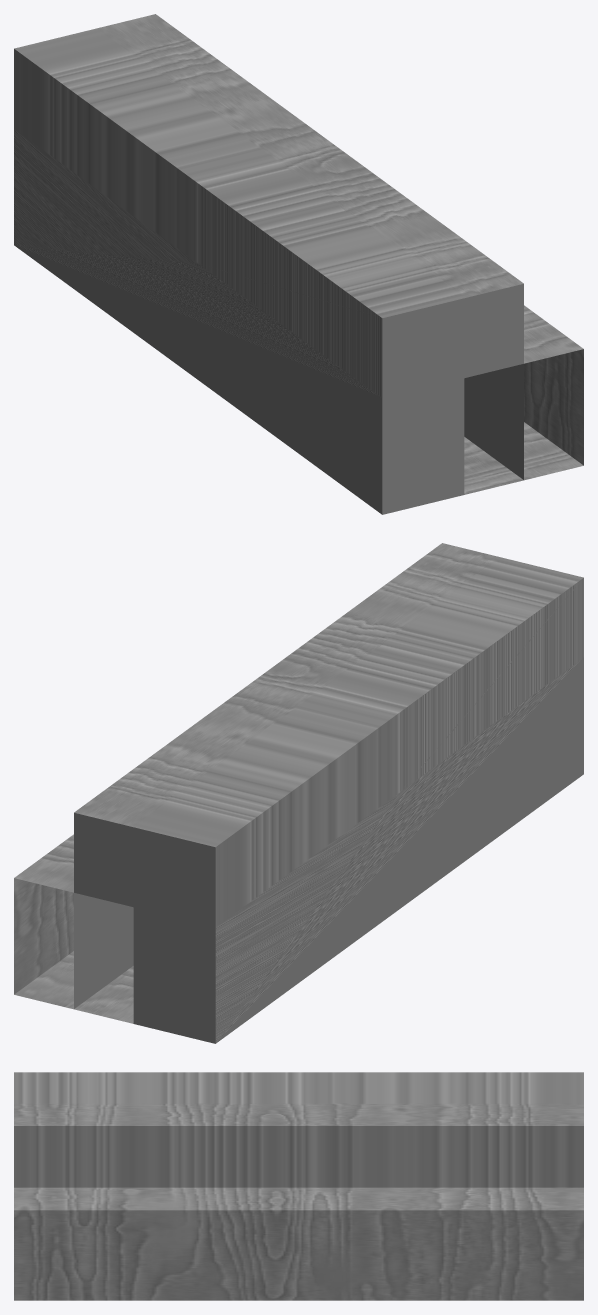
File: profile_example.gltf
The picture shows the model from 3 angles, top to bottom: view 1: azimuth 30°, elevation 25°; view 2: azimuth 150°, elevation 25°; view 3: azimuth 270°, elevation 25°; orthographic projection. The views are drawn at different scales.
Parts seen in each view (by area): view 1: Cube; view 2: Cube; view 3: Cube.
Boxes of the visible parts, bbox=[...] form: Cube: bbox=[14, 14, 583, 514]; Cube: bbox=[14, 543, 583, 1043]; Cube: bbox=[14, 1072, 583, 1300].
Bounding box in the file's own units: 1.05 × 0.9772 × 3.32.
1 material, 1 textured.
